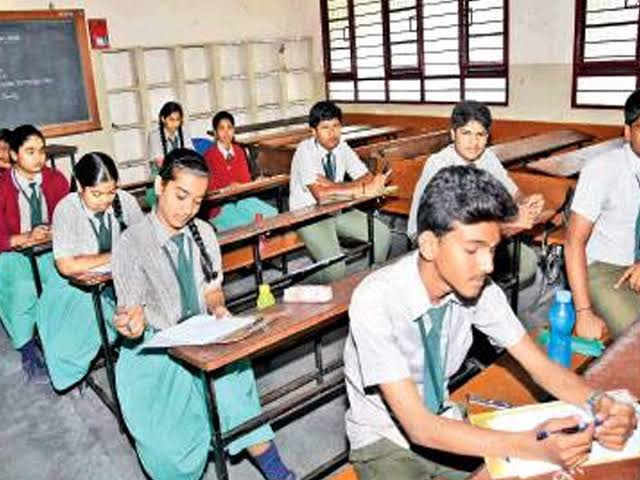student: (414, 164, 511, 303), (152, 144, 209, 226), (71, 153, 124, 212), (452, 94, 495, 162), (8, 123, 46, 178), (306, 103, 345, 153), (620, 85, 640, 159), (155, 95, 187, 137), (208, 111, 241, 147)
